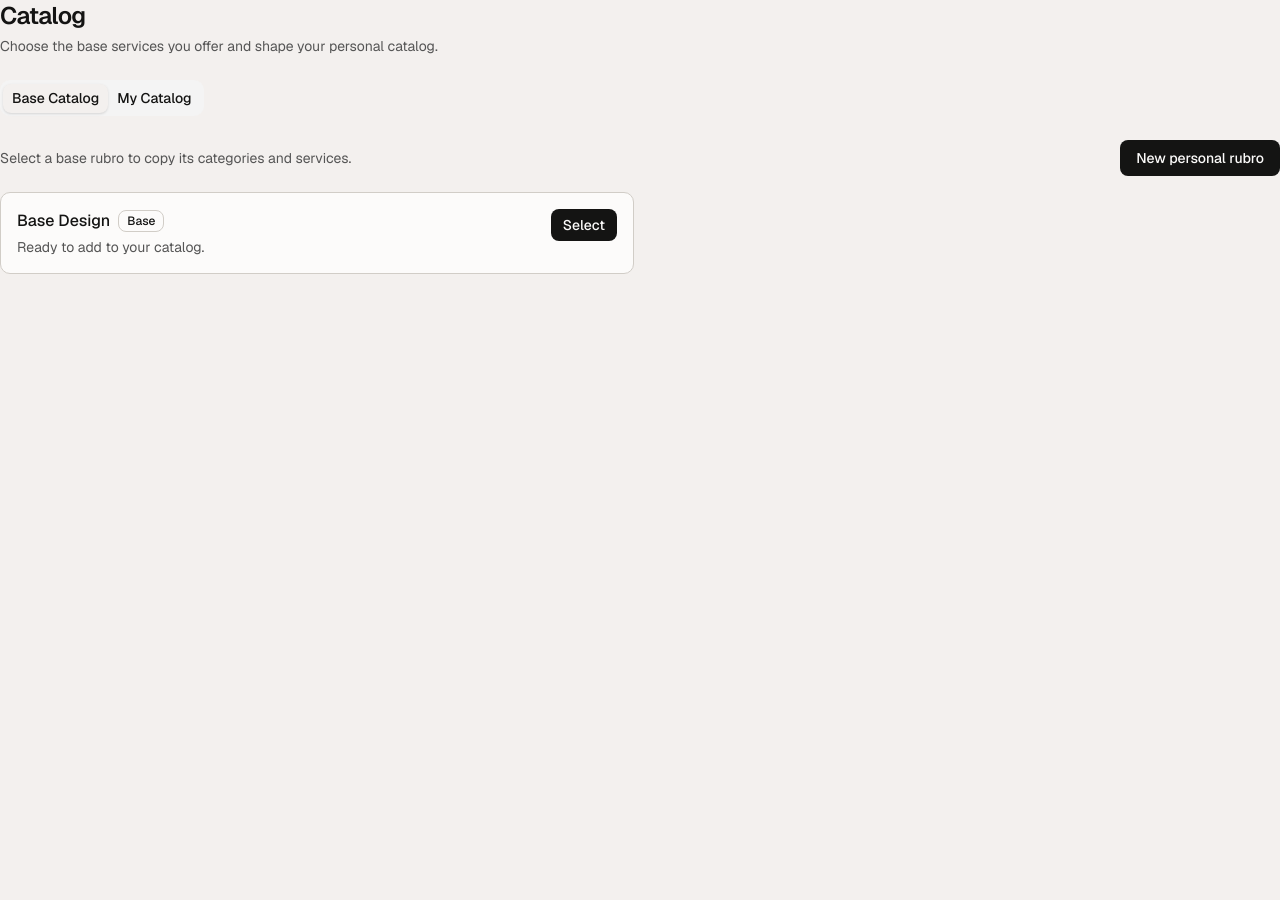
Test: CatalogoPage — server error surfacing › maps a 422 response to a field error and keeps the dialog open
The image size is (1280, 900).
Click the tab "My Catalog". click: (154, 98)
box: [108, 84, 200, 112]
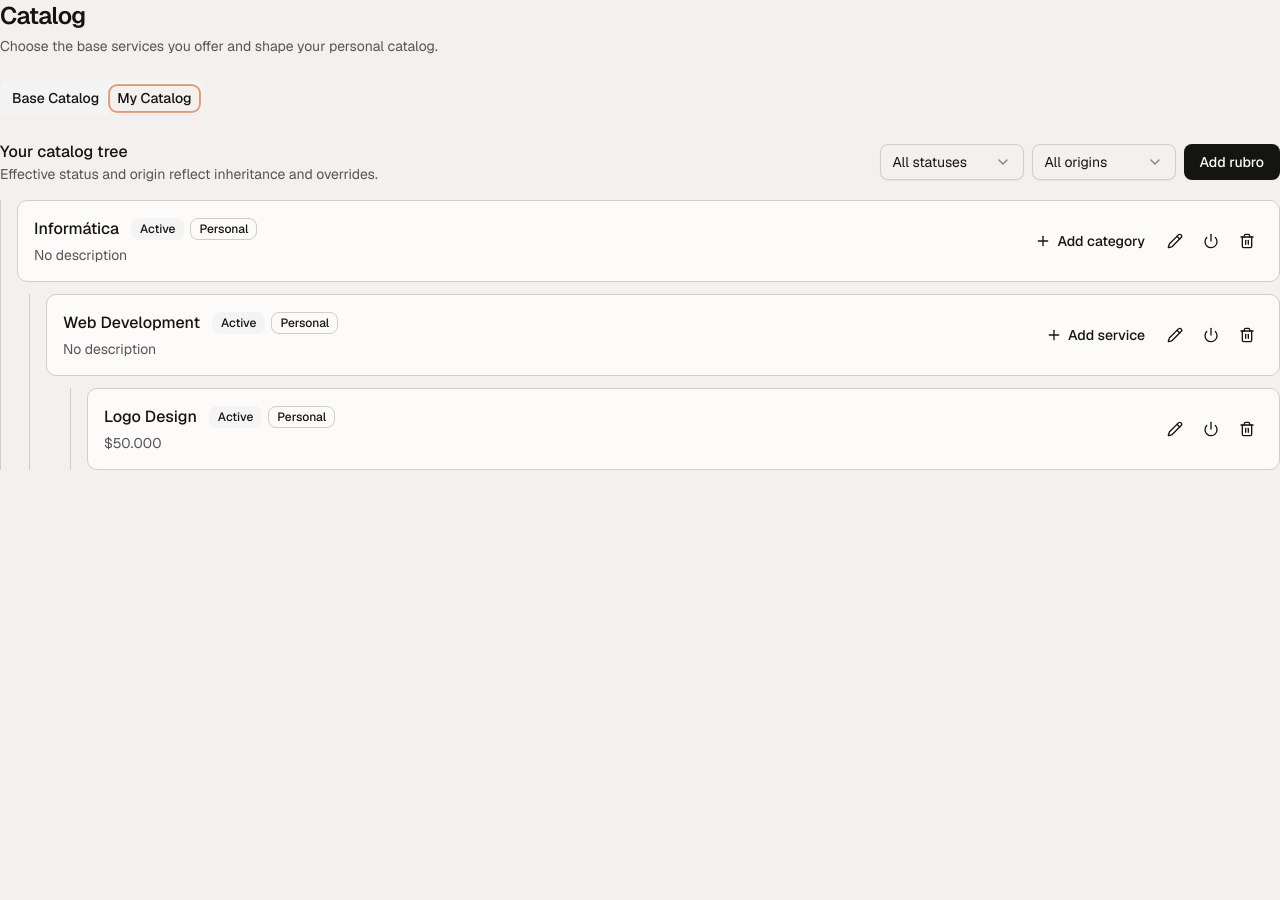
Now the heading "Informática" is shown, box [34, 217, 119, 241]
Click the button "Add category". click: (1090, 241)
box: [1025, 225, 1155, 257]
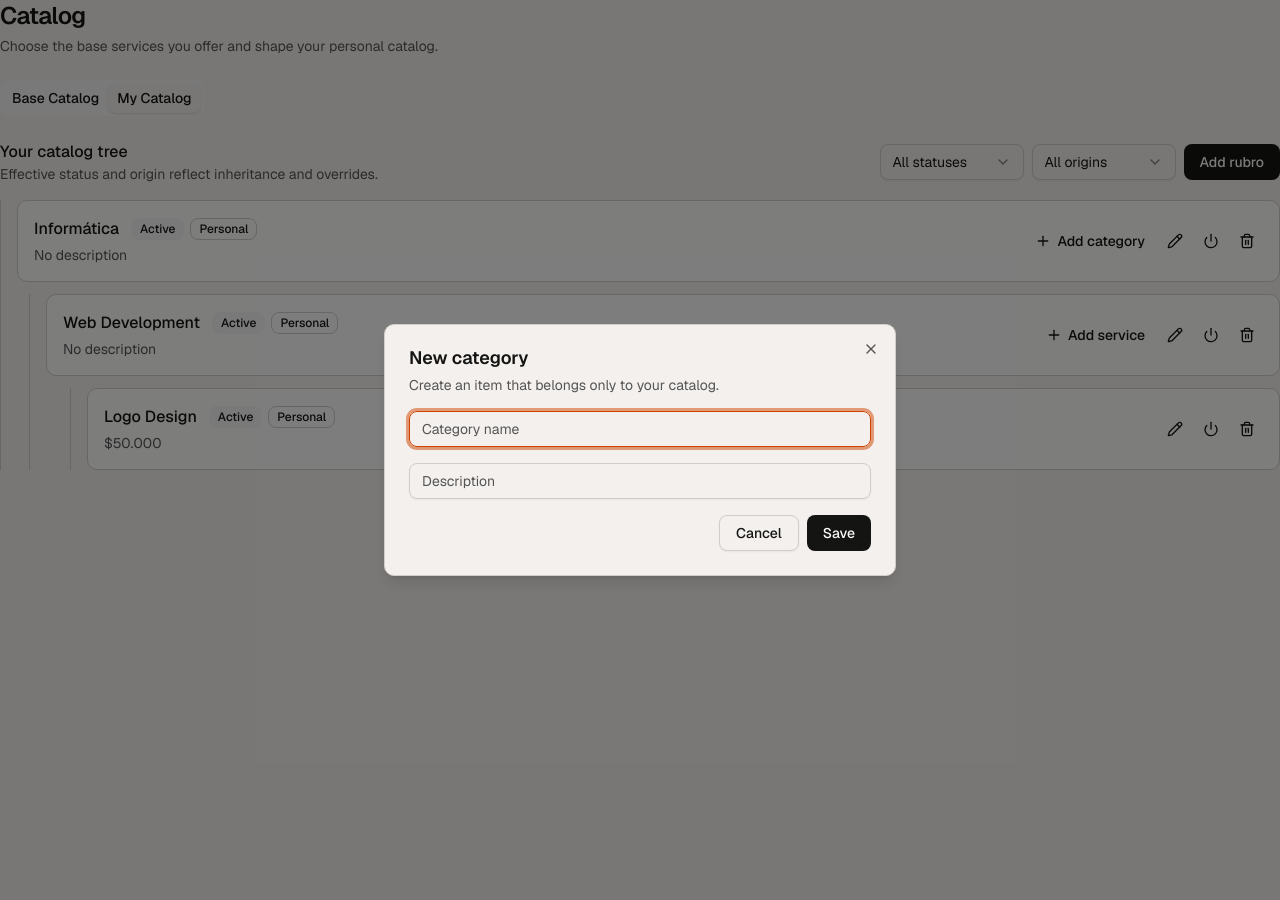
Type "Consulting" into the field labelled "name". click: (640, 429)
box: [409, 411, 871, 447]
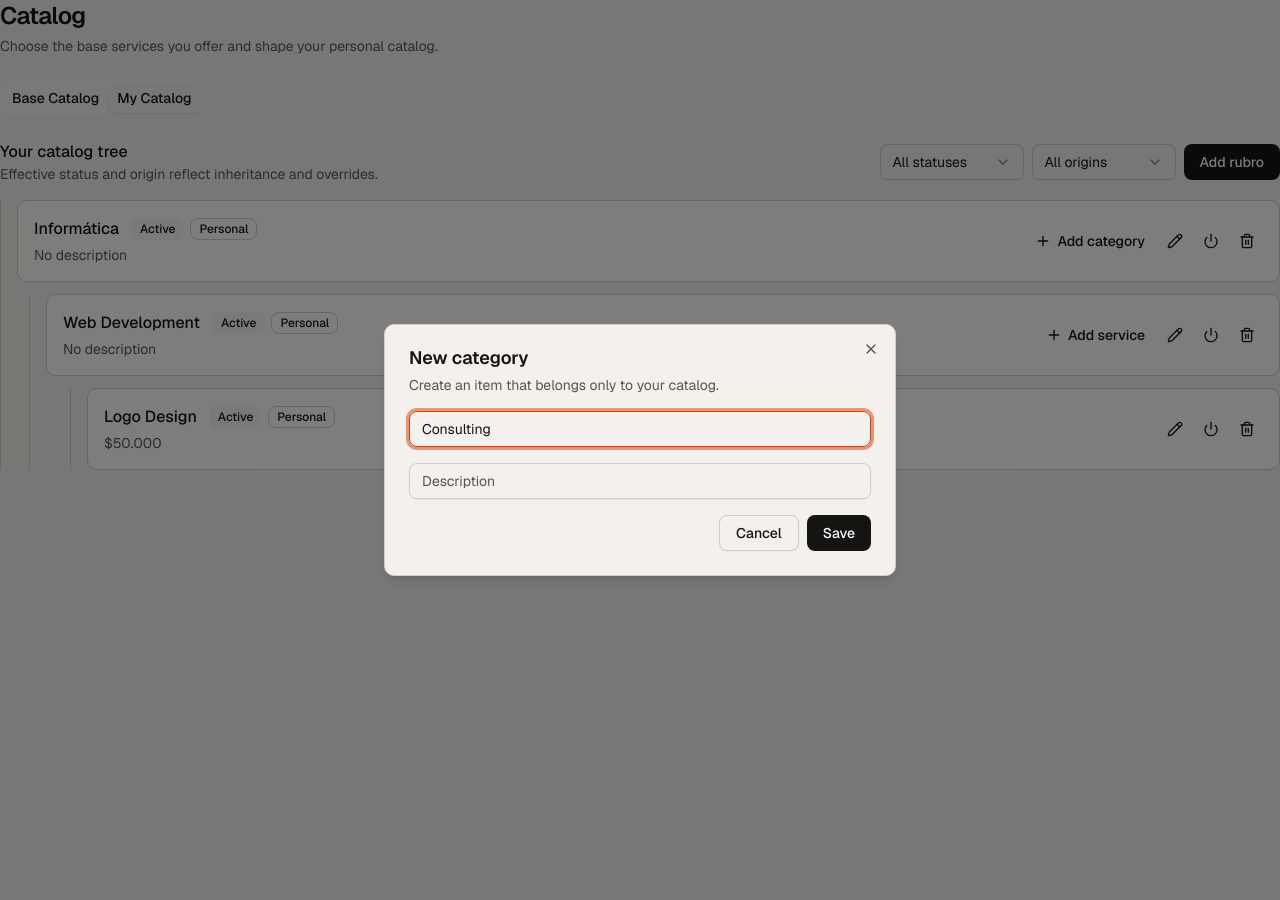
Click the button "Save". click: (839, 533)
box: [807, 515, 871, 551]
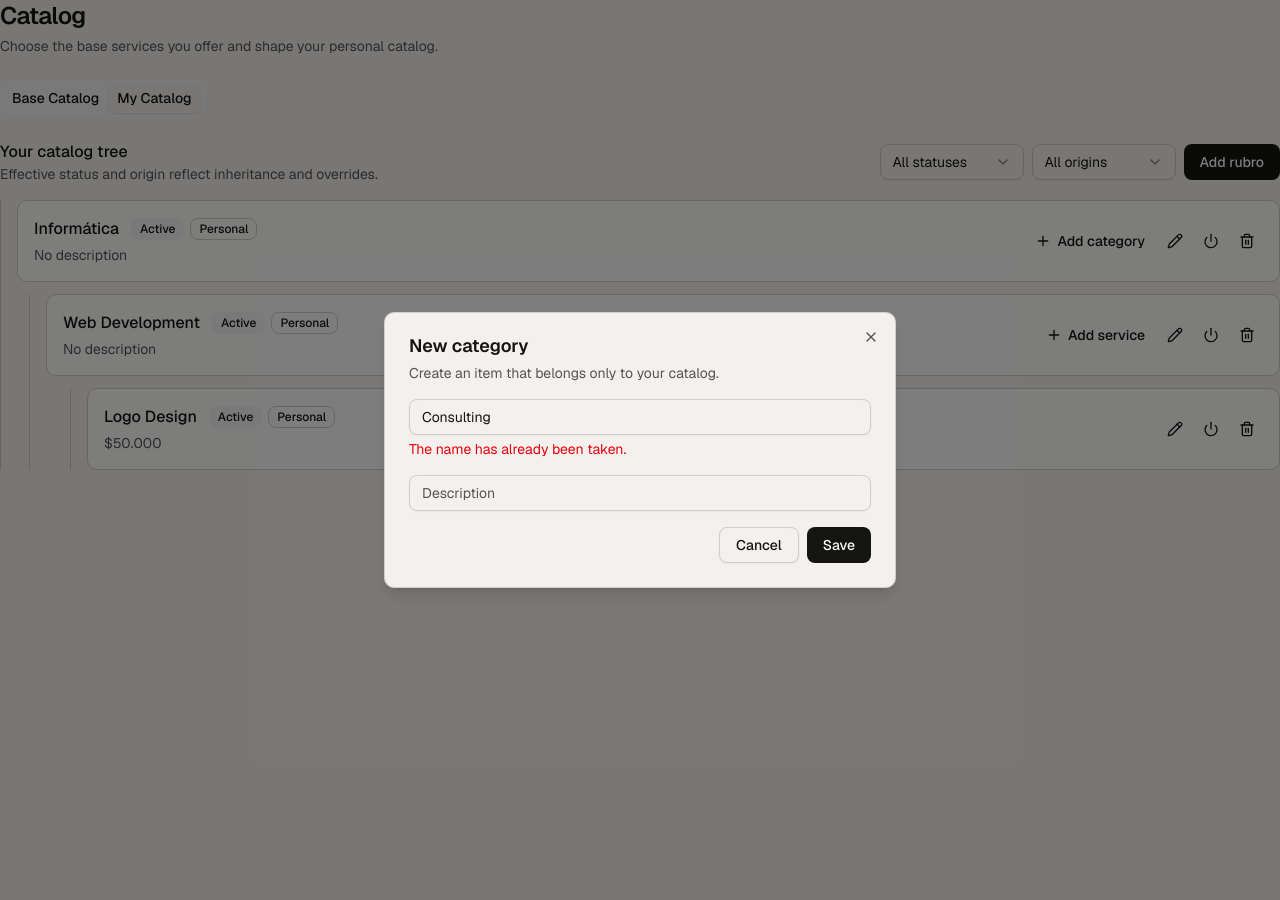
Now the heading "New category" is shown, box [409, 334, 528, 357]
Now the text "The name has already been taken." is shown, box [409, 440, 626, 458]
